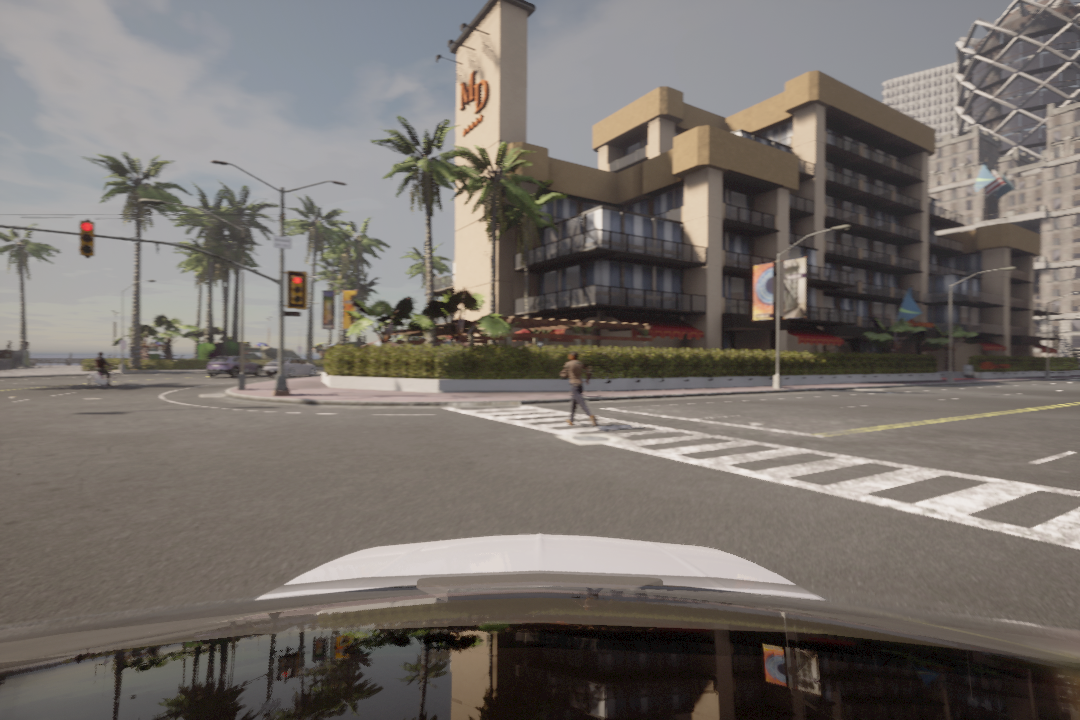TrafficLight: (288, 271, 306, 308), (79, 221, 96, 259)
walkside: (447, 405, 1080, 556)
